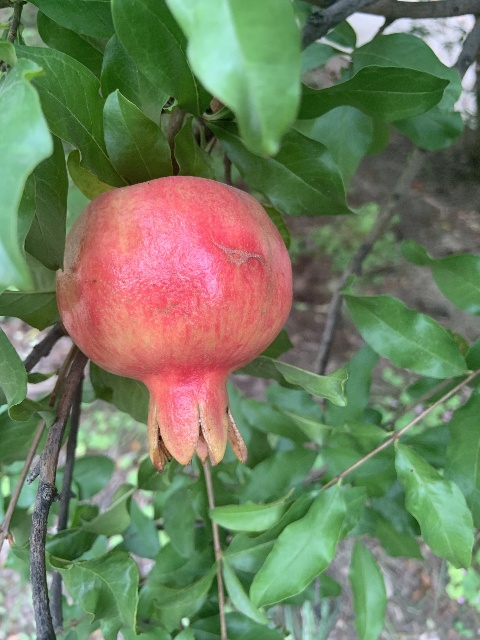ripe: (56, 174, 293, 470)
